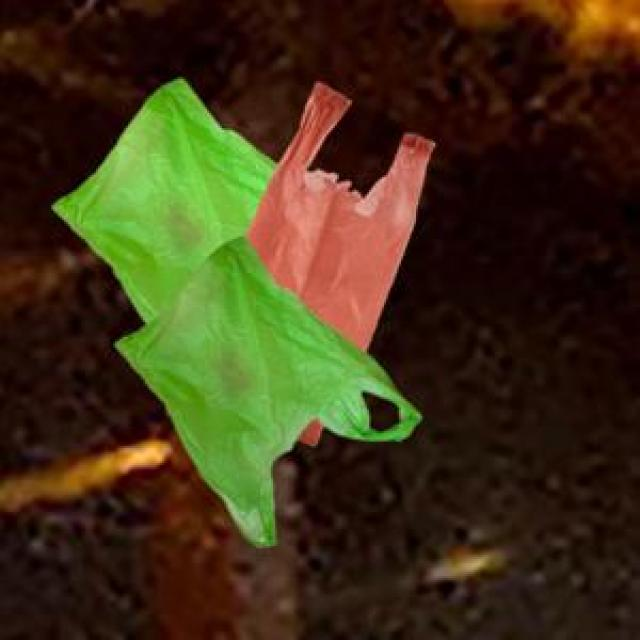plastic: (52, 56, 445, 544)
